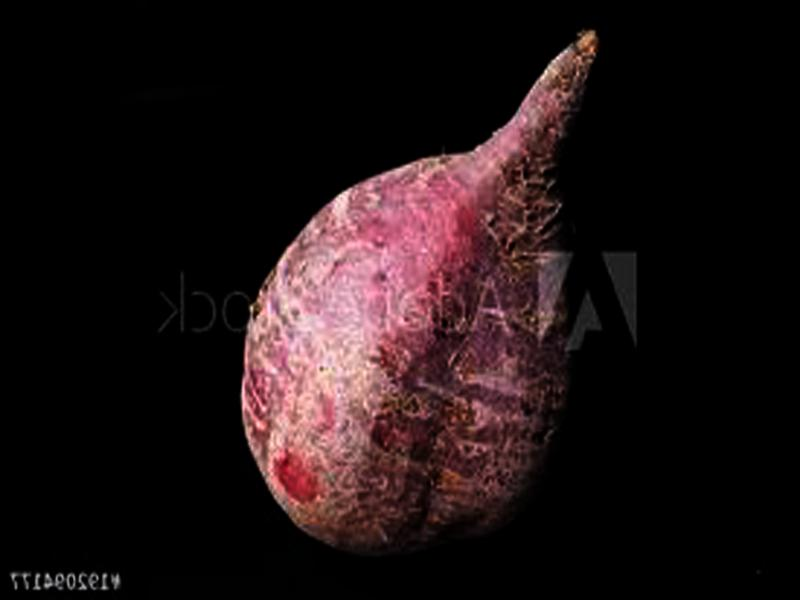Beet: (238, 30, 595, 551)
